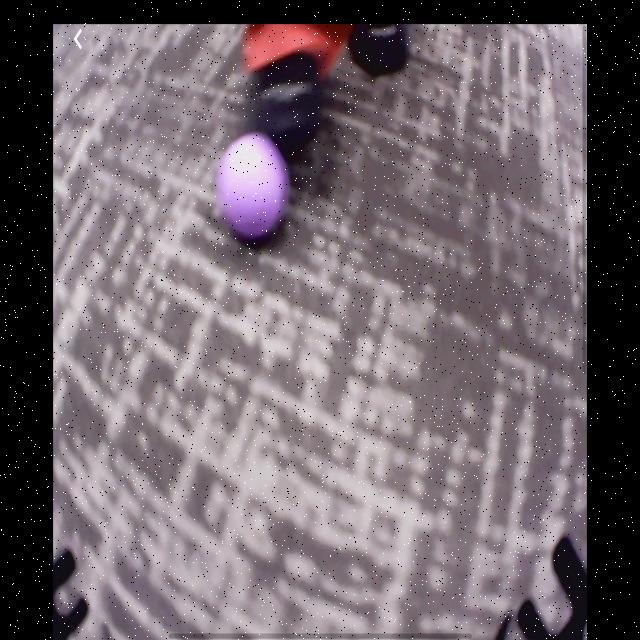ball: (220, 136, 289, 240)
